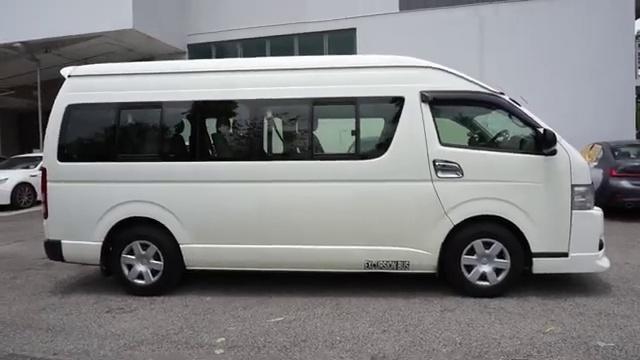Van: (46, 61, 610, 293)
